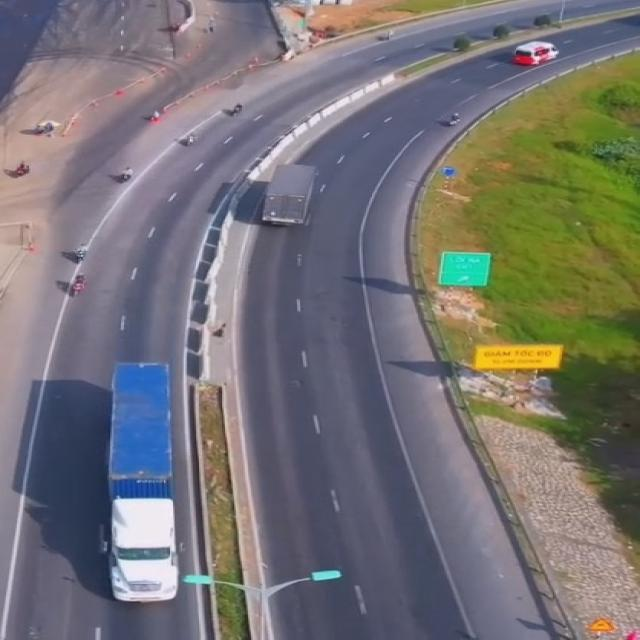bus: (510, 40, 556, 69)
truck: (106, 360, 182, 605), (259, 157, 321, 228)
